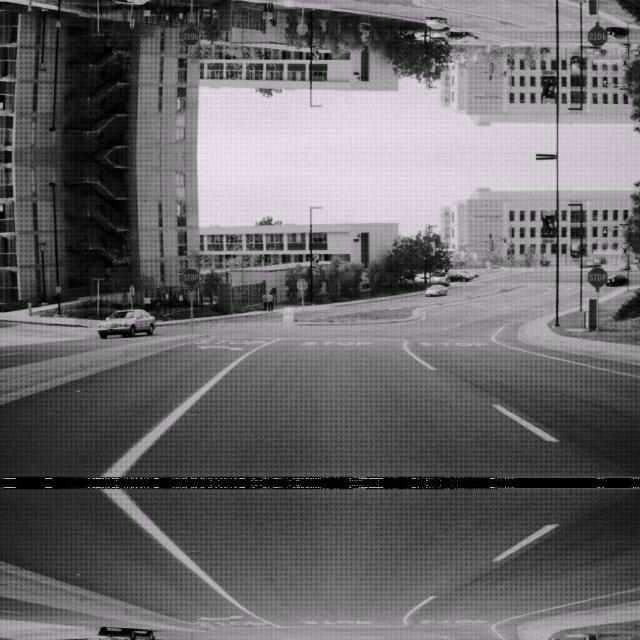stop: (586, 265, 608, 287), (586, 25, 608, 47), (180, 266, 200, 286), (180, 26, 200, 46)
